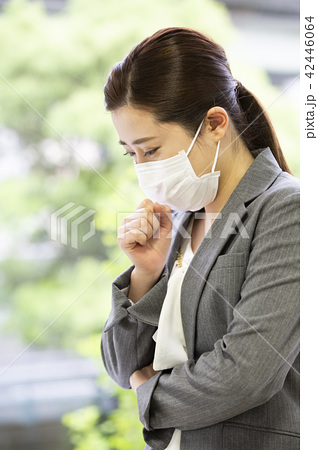mask: (124, 150, 224, 225)
